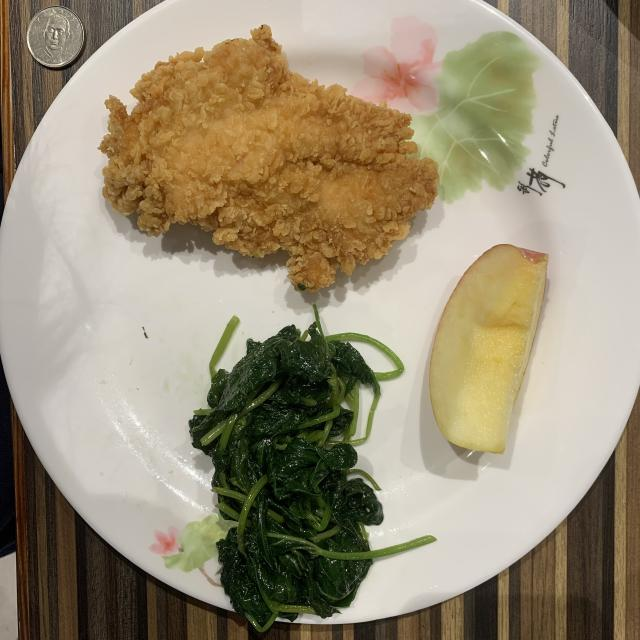apple -sliced-: (430, 244, 548, 454)
coin: (26, 6, 85, 69)
fried chicken cutlet: (100, 25, 439, 291)
sweet potato leaves: (190, 311, 431, 631)
